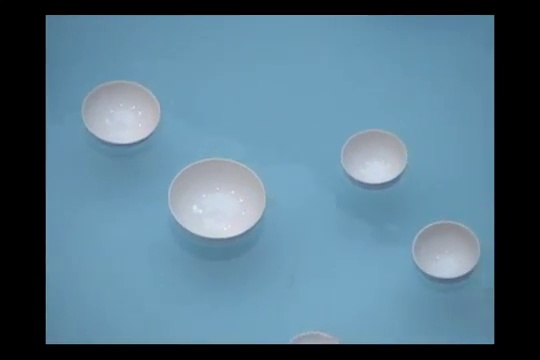bowl: (167, 157, 267, 244), (81, 80, 161, 148), (410, 220, 481, 285), (340, 129, 408, 191), (289, 330, 340, 345)
